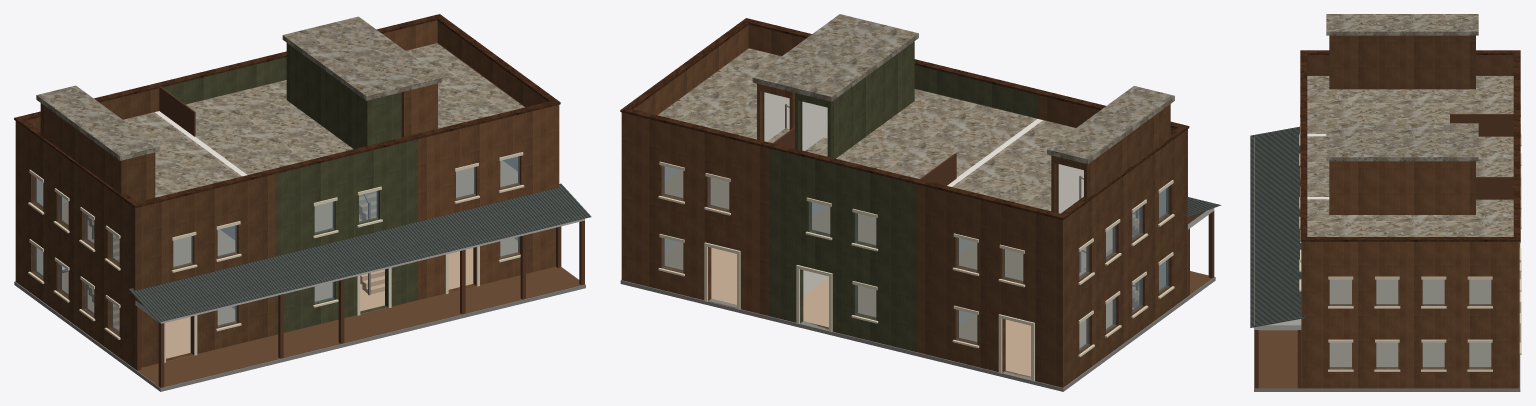
The model's file is rw-mill-row.towns-v1.lod0.glb.
3 renders of one model, left to right at view 1: azimuth 30°, elevation 25°; view 2: azimuth 150°, elevation 25°; view 3: azimuth 270°, elevation 25°, orthographic. The views are drawn at different scales.
Visible parts, largest first — view 1: rw-mill-row; view 2: rw-mill-row; view 3: rw-mill-row.
Boxes of the visible parts, left/top/right/bottom form: rw-mill-row: left=14, top=14, right=591, bottom=391; rw-mill-row: left=620, top=14, right=1221, bottom=391; rw-mill-row: left=1250, top=14, right=1521, bottom=391.
Size of the model in its own units: 19.6 by 8.95 by 11.69.
7 materials, 3 textured.
